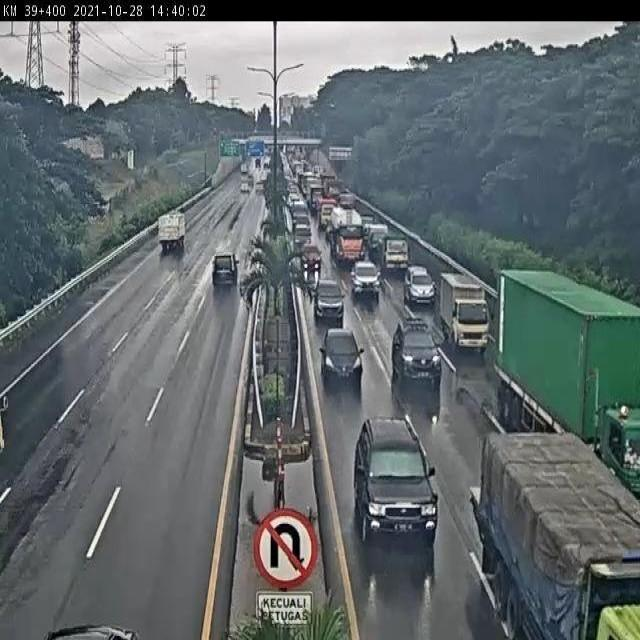Car: (353, 417, 438, 553), (391, 316, 442, 387), (318, 327, 366, 386), (312, 280, 347, 324), (403, 266, 436, 304), (212, 252, 239, 287), (299, 244, 323, 274)
Truck: (472, 427, 638, 640), (494, 265, 640, 505), (439, 274, 491, 358), (331, 217, 367, 267), (157, 211, 188, 250), (382, 235, 409, 275)
